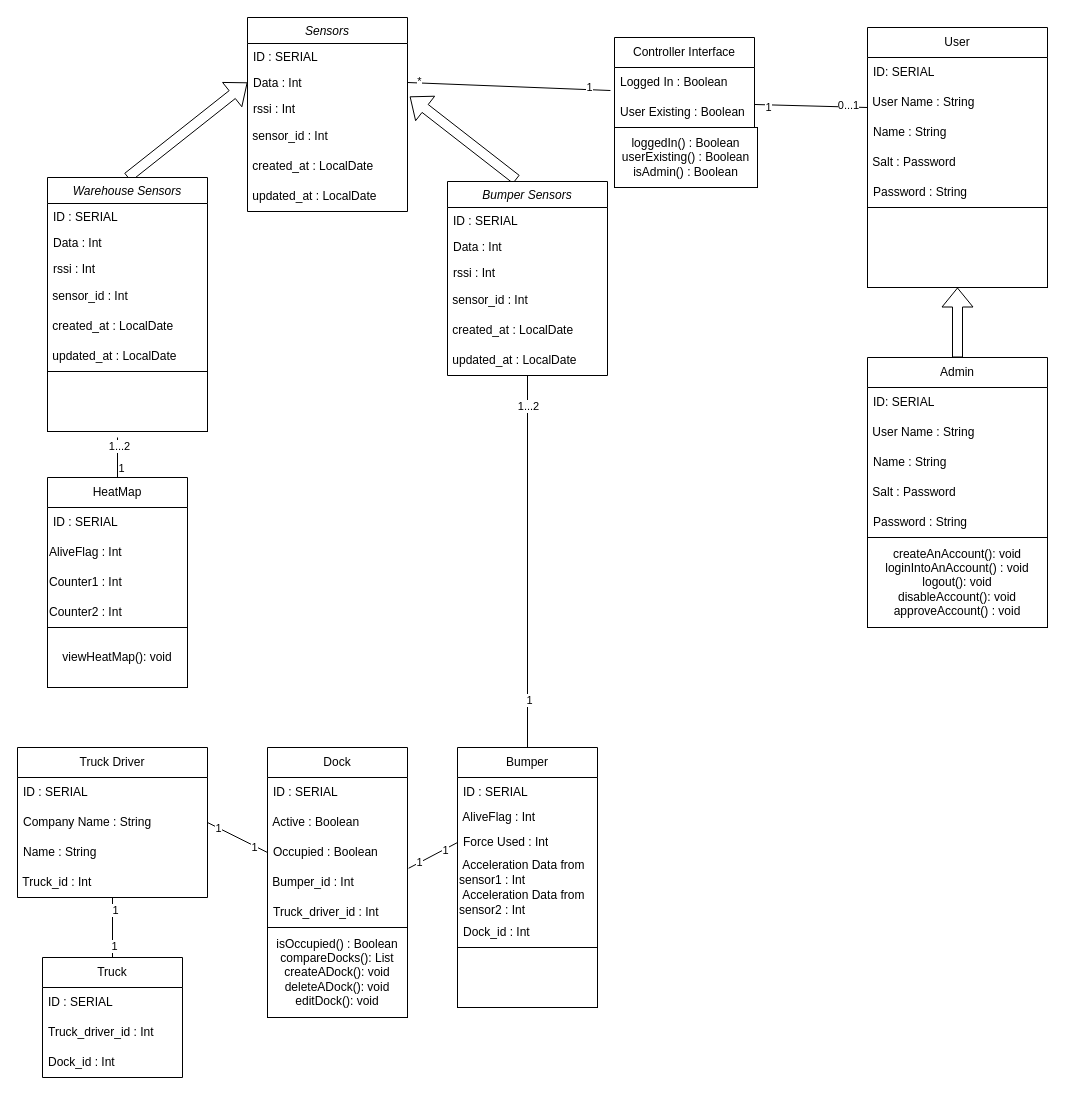
Some shapes in this 1065 by 1095 pixel diagram are drawn without their labels. The centre of each missing label's shape, as x and y in pixels:
createAnAccount(): void loginIntoAnAccount() : void logout(): void: point (957, 247)
reportASensor(): void checkForceUsed(): Int: point (527, 977)
viewMap(): void filterMap(): void: point (127, 401)
